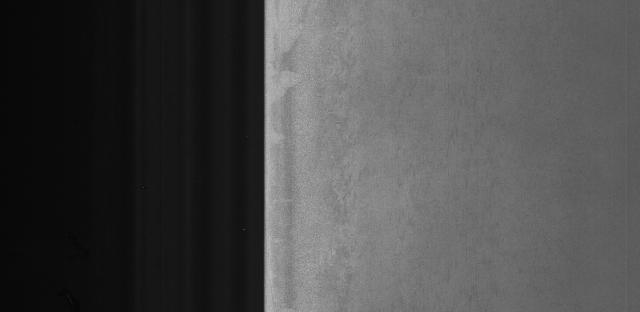silk_spot: (325, 51, 378, 294)
